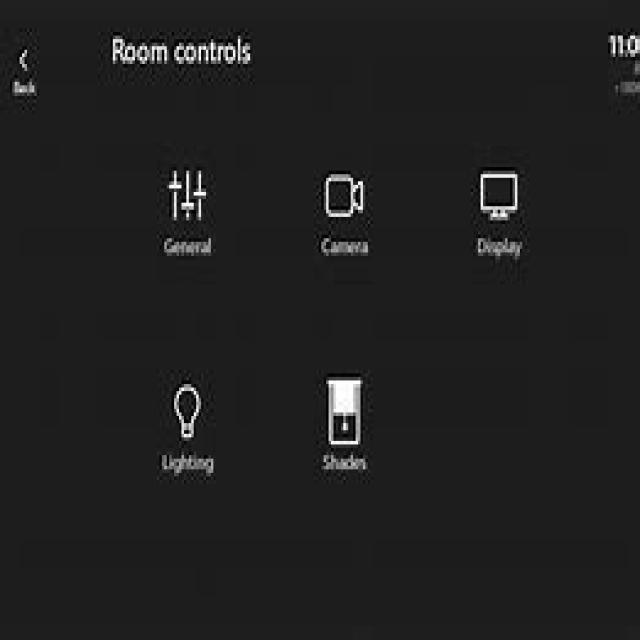button: (16, 42, 34, 74)
icon: (323, 374, 367, 450), (165, 160, 210, 224), (321, 166, 369, 224), (477, 164, 522, 223), (168, 380, 209, 441)
label: (106, 26, 255, 74), (159, 449, 221, 478), (473, 232, 528, 262), (160, 233, 216, 259), (318, 233, 376, 257), (0, 76, 42, 106), (318, 454, 372, 474)
